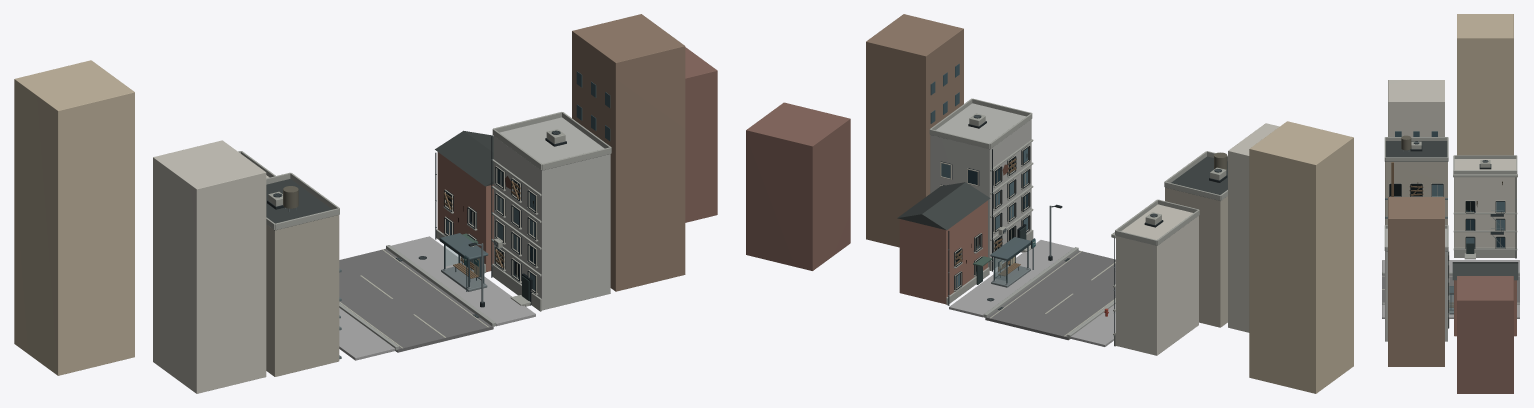
Rendered from city_hd_10.glb.
3 views of the same model, side by side, from view 1: azimuth 30°, elevation 25°; view 2: azimuth 150°, elevation 25°; view 3: azimuth 270°, elevation 25° (orthographic). The views are drawn at different scales.
Parts seen in each view (by area): view 1: Background city building.001, CITY_realwall_c8c5bb, Background city building.002, Masonry apartment volume, Modern apartment main volume, CITY_PBR_asphalt, Background city building.003, CITY_PBR_pavement, CITY_trim, Narrow townhouse volume.001, CITY_roof, CITY_recess (+4 smaller); view 2: Background city building.001, Background city building.002, Background city building.003, CITY_realwall_c8c5bb, Masonry apartment volume, CITY_PBR_asphalt, Narrow townhouse volume.001, CITY_trim, Modern apartment main volume, CITY_PBR_pavement, CITY_roof, CITY_recess (+4 smaller); view 3: Background city building.002, Background city building.001, CITY_realwall_c8c5bb, Background city building.003, CITY_trim, CITY_roof, Modern apartment main volume, Masonry apartment volume, CITY_recess, CITY_frame, CITY_glass, CITY_darkmetal (+8 smaller).
Boxes of the visible parts, x1=… form: Background city building.001: x1=14, y1=60, x2=134, y2=375; CITY_realwall_c8c5bb: x1=153, y1=140, x2=269, y2=393; Background city building.002: x1=572, y1=14, x2=685, y2=291; Masonry apartment volume: x1=493, y1=117, x2=610, y2=310; Modern apartment main volume: x1=266, y1=215, x2=339, y2=376; CITY_PBR_asphalt: x1=339, y1=248, x2=493, y2=352; Background city building.003: x1=685, y1=47, x2=717, y2=222; CITY_PBR_pavement: x1=339, y1=236, x2=535, y2=360; CITY_trim: x1=238, y1=112, x2=611, y2=311; Narrow townhouse volume.001: x1=437, y1=152, x2=493, y2=272; CITY_roof: x1=266, y1=130, x2=541, y2=230; CITY_recess: x1=444, y1=166, x2=537, y2=305; Background city building.001: x1=1249, y1=121, x2=1353, y2=393; Background city building.002: x1=866, y1=14, x2=963, y2=247; Background city building.003: x1=746, y1=102, x2=850, y2=270; CITY_realwall_c8c5bb: x1=1116, y1=123, x2=1279, y2=355; Masonry apartment volume: x1=930, y1=103, x2=1031, y2=267; CITY_PBR_asphalt: x1=985, y1=250, x2=1115, y2=340; Narrow townhouse volume.001: x1=899, y1=200, x2=987, y2=304; CITY_trim: x1=929, y1=98, x2=1227, y2=346; Modern apartment main volume: x1=1165, y1=187, x2=1227, y2=327; CITY_PBR_pavement: x1=949, y1=240, x2=1115, y2=346; CITY_roof: x1=897, y1=149, x2=1227, y2=230; CITY_recess: x1=941, y1=146, x2=1030, y2=290; Background city building.002: x1=1388, y1=197, x2=1444, y2=366; Background city building.001: x1=1457, y1=14, x2=1513, y2=155; CITY_realwall_c8c5bb: x1=1388, y1=80, x2=1516, y2=247; Background city building.003: x1=1457, y1=276, x2=1513, y2=393; CITY_trim: x1=1384, y1=137, x2=1517, y2=259; CITY_roof: x1=1385, y1=141, x2=1518, y2=280; Modern apartment main volume: x1=1385, y1=162, x2=1447, y2=224; Masonry apartment volume: x1=1385, y1=228, x2=1447, y2=341; CITY_recess: x1=1389, y1=183, x2=1505, y2=328; CITY_frame: x1=1389, y1=183, x2=1505, y2=327; CITY_glass: x1=1432, y1=184, x2=1504, y2=247; CITY_darkmetal: x1=1410, y1=141, x2=1516, y2=258.
Size of the model in its own units: 57.3 by 22.26 by 16.
